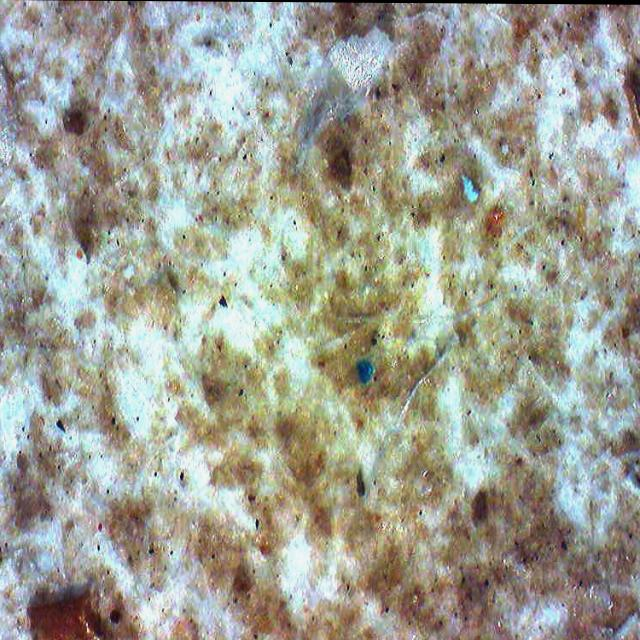microplastic: (296, 23, 397, 172), (355, 358, 374, 385)
